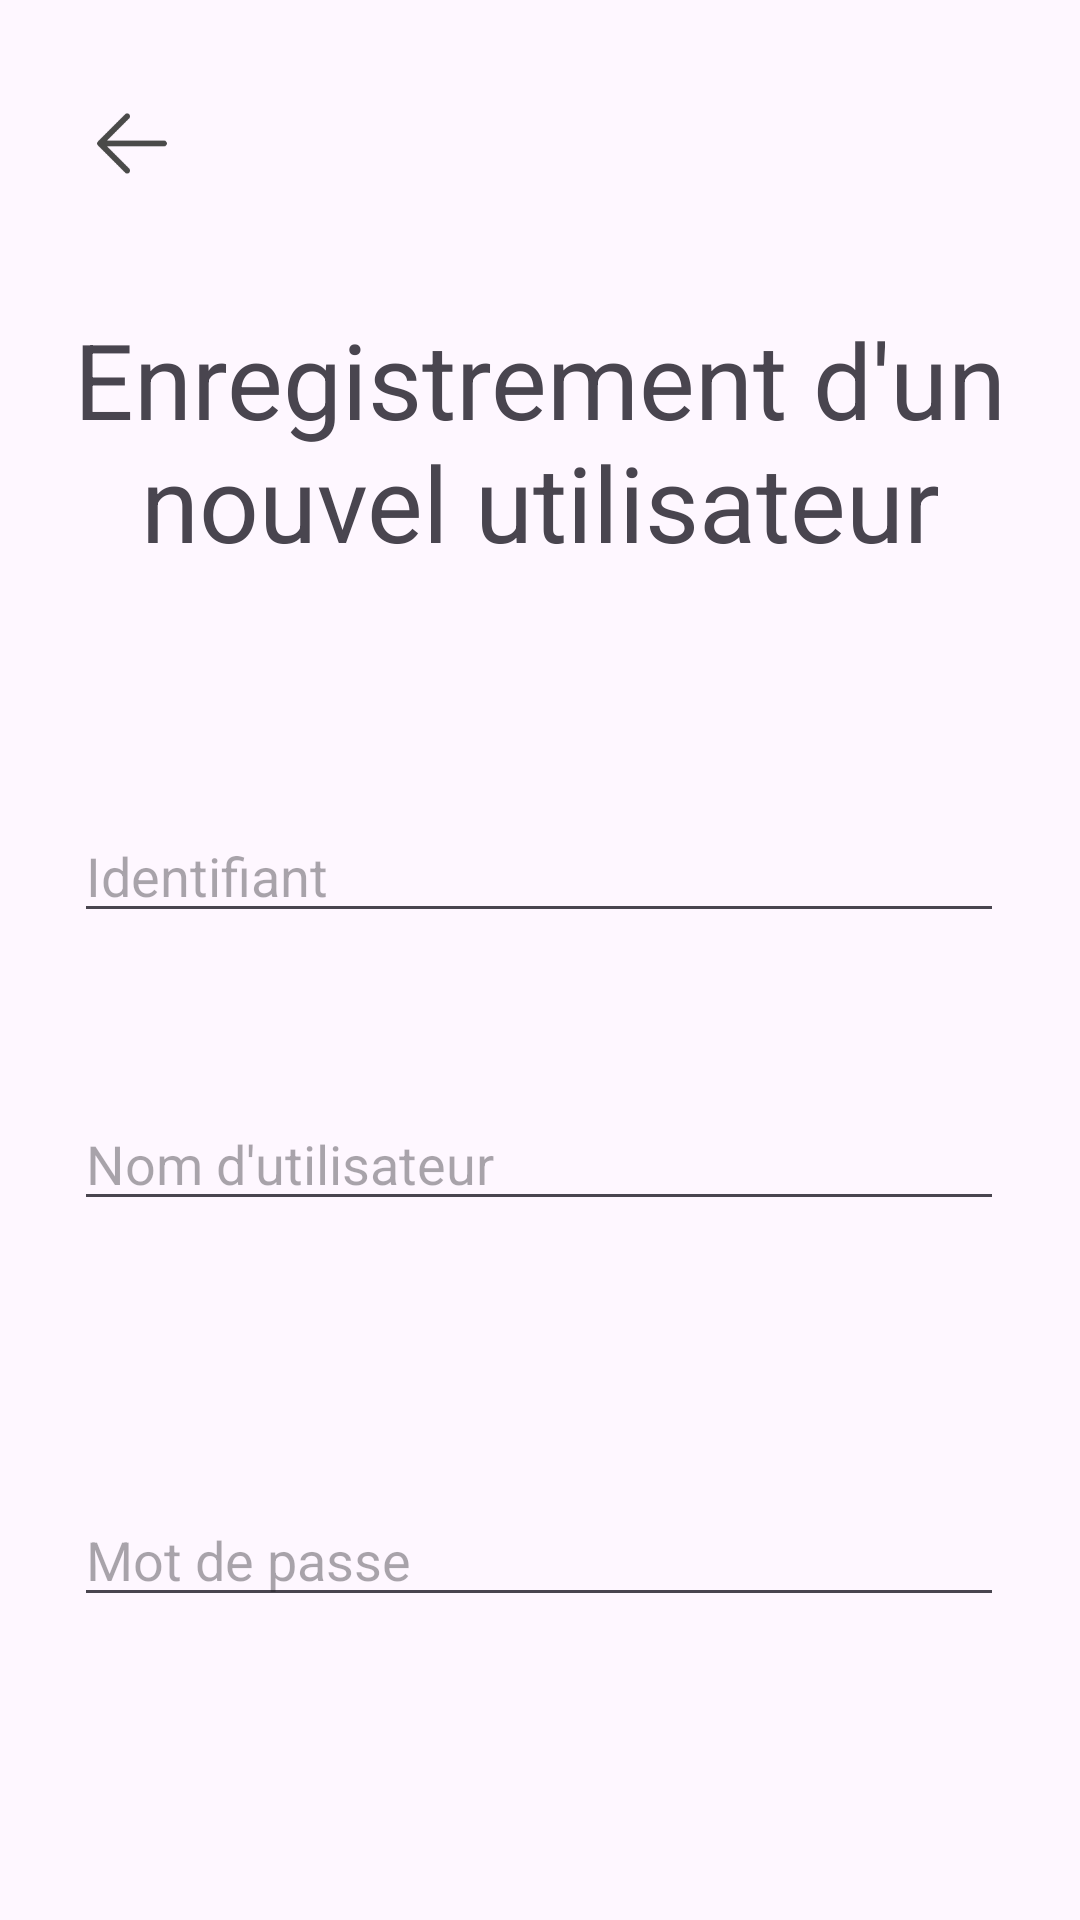

Where to tap for icons on this 1080px x 1920px app screen, as (x,y):
left: (132,143)
